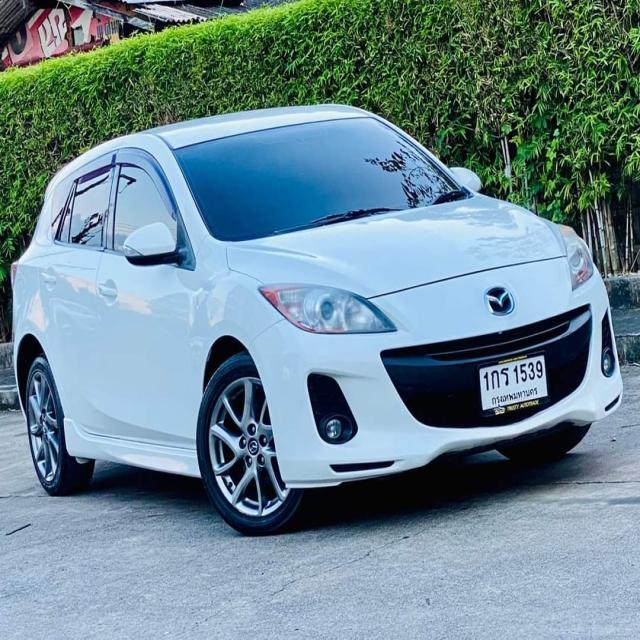license_plate: (473, 350, 549, 416)
